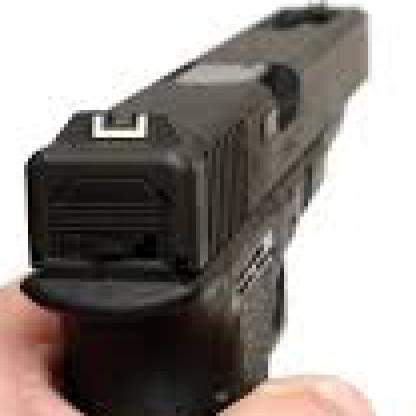gun: (8, 0, 396, 413)
